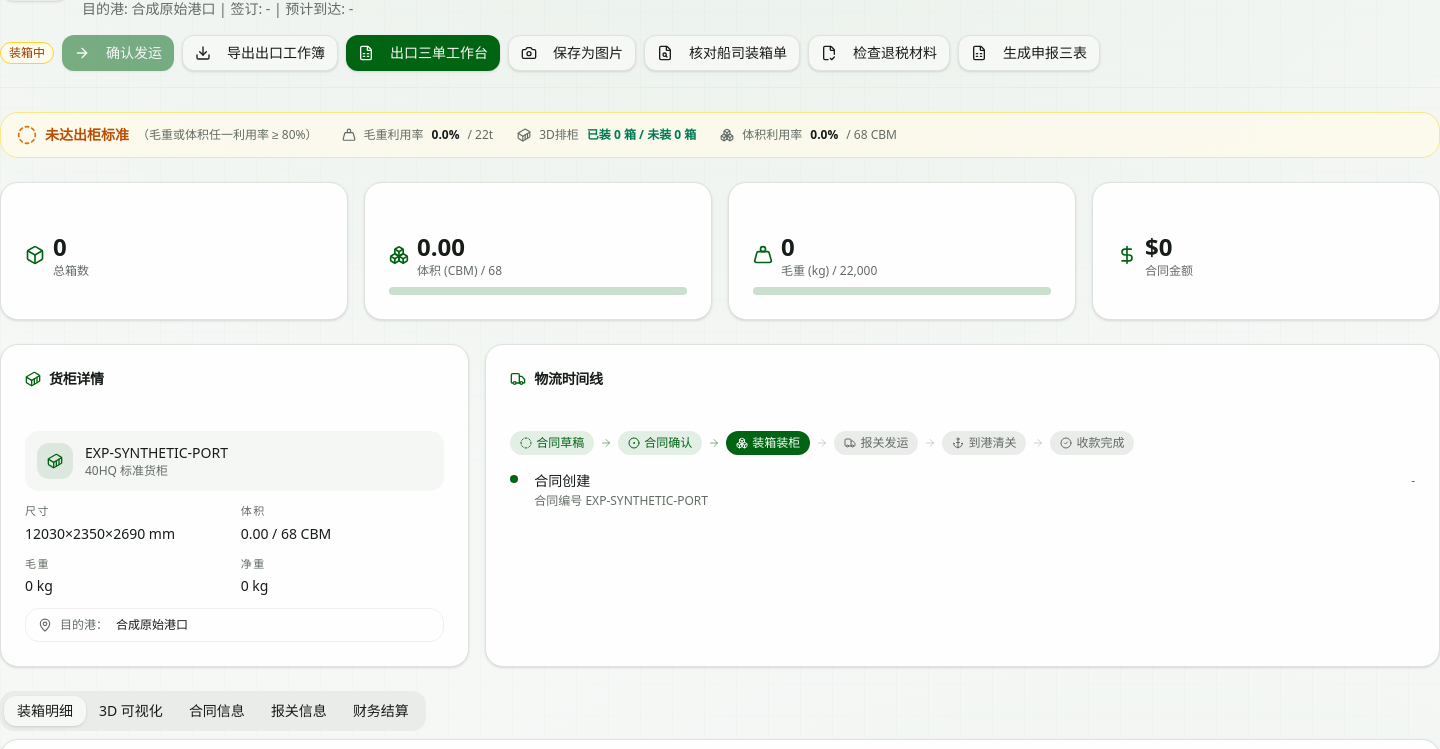
Test: SalesDetailPage 交互逻辑 › 合同头目的港选项使用带港口关联的门店读回而不是 lite 空选项
The image size is (1440, 749).
Click the tab "合同信息": (217, 711) x1=176 y1=696 x2=258 y2=726
(page scrolled)
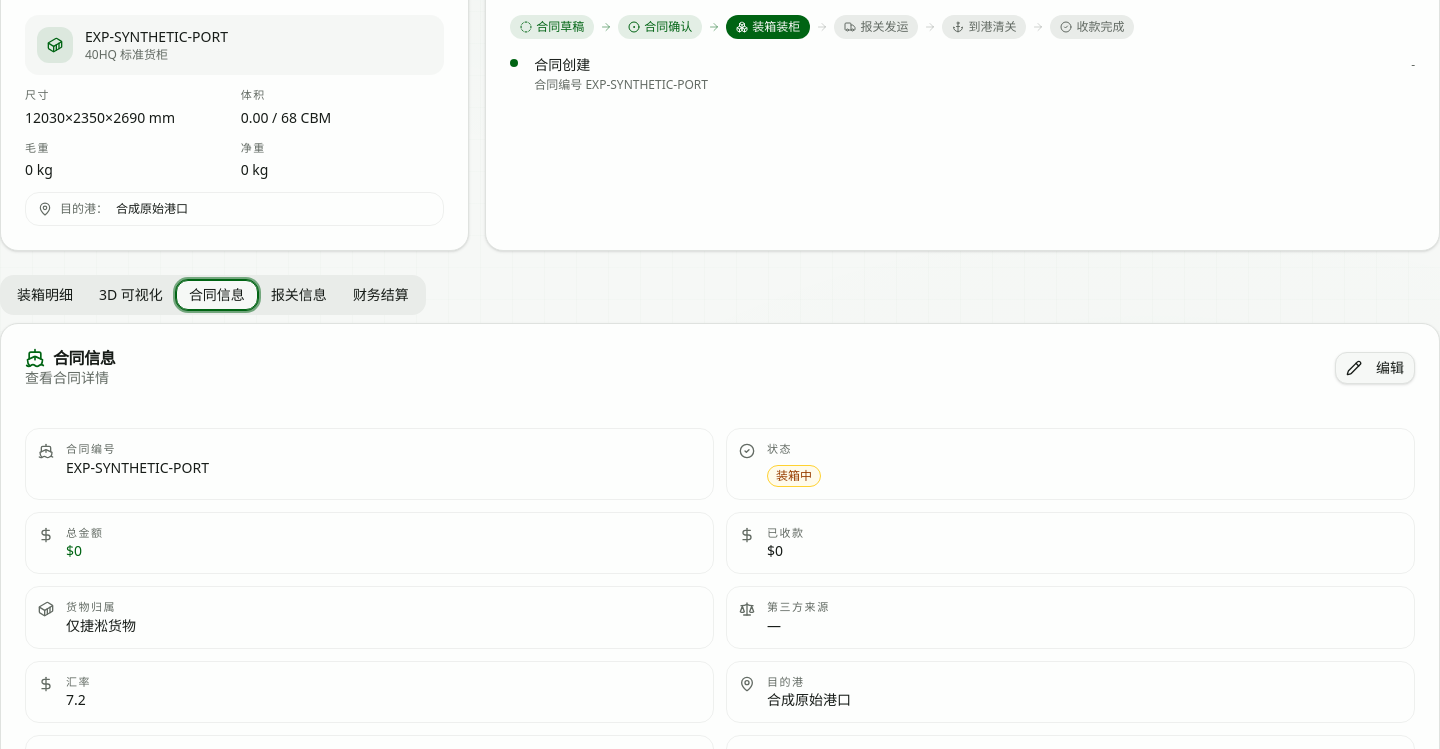
Click the button "编辑": (1375, 368) x1=1335 y1=352 x2=1415 y2=384
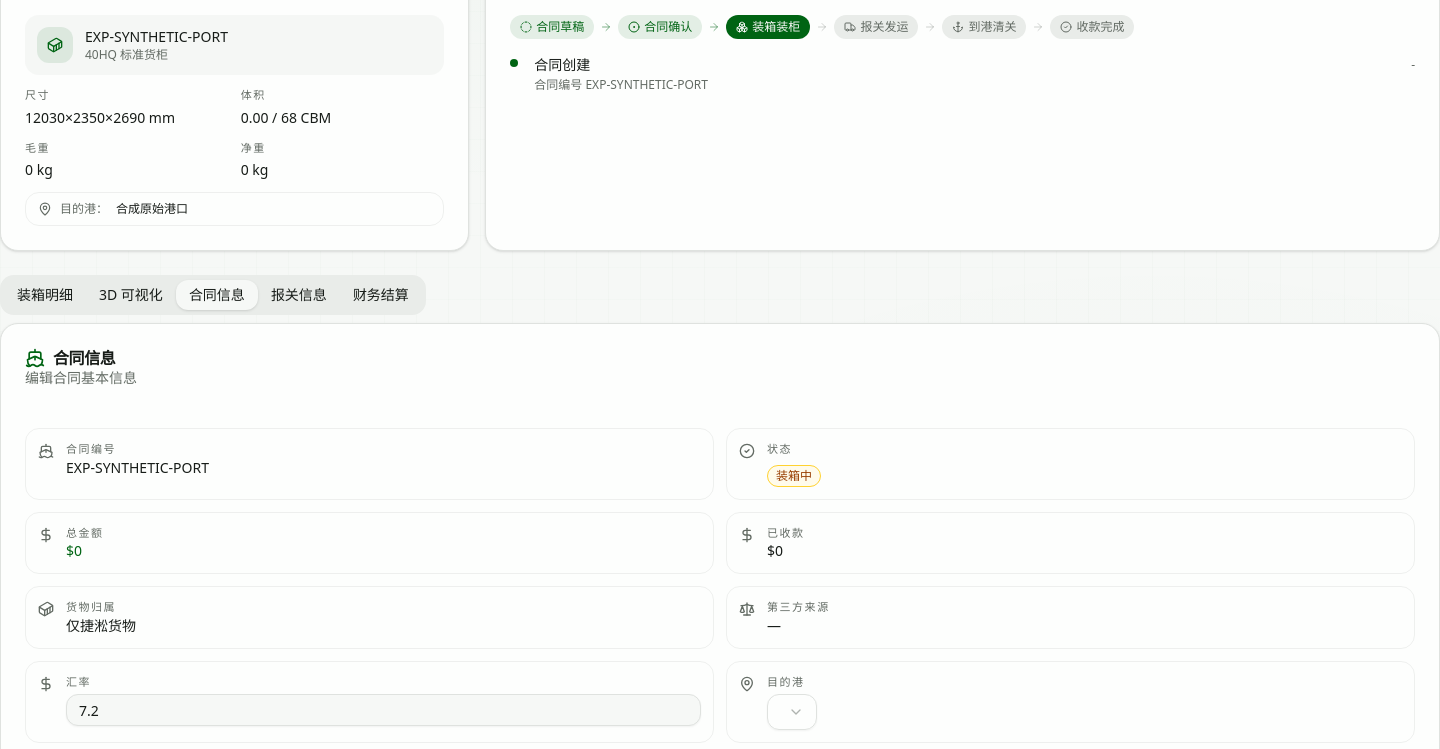
Click the dropdown named "目的港": (792, 712) x1=767 y1=694 x2=817 y2=730
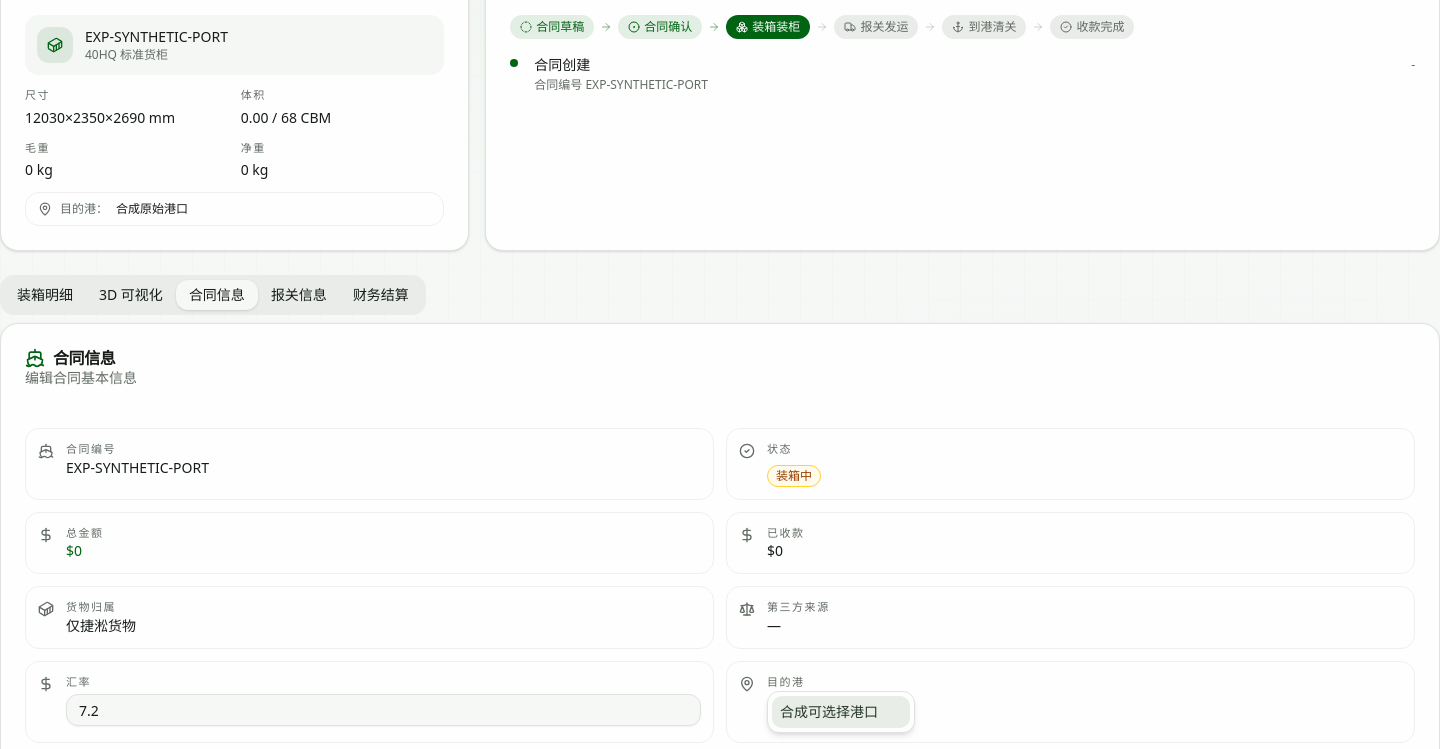
Expected: the option "合成可选择港口" is shown, x1=772 y1=696 x2=910 y2=728
